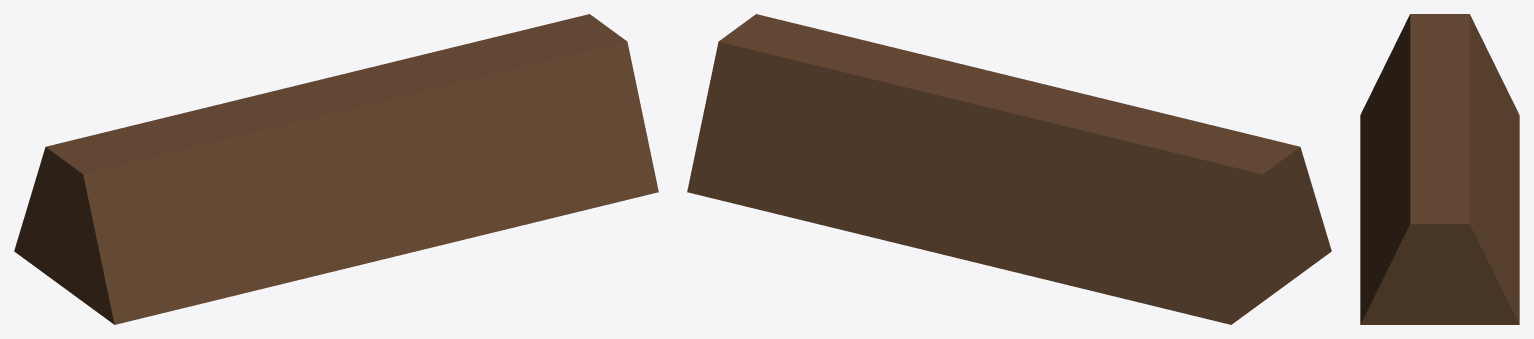
Rendered from RoofRidge.fbx.
3 renders of one model, left to right at view 1: azimuth 30°, elevation 25°; view 2: azimuth 150°, elevation 25°; view 3: azimuth 270°, elevation 25°, orthographic. The views are drawn at different scales.
Visible parts, largest first — view 1: Kit_RoofRidge; view 2: Kit_RoofRidge; view 3: Kit_RoofRidge.
Boxes of the visible parts, x1,y1,x2,y2 form: Kit_RoofRidge: (14,14,658,324); Kit_RoofRidge: (687,14,1331,324); Kit_RoofRidge: (1360,14,1519,324).
Size of the model in its own units: 1 by 0.2241 by 0.32.
